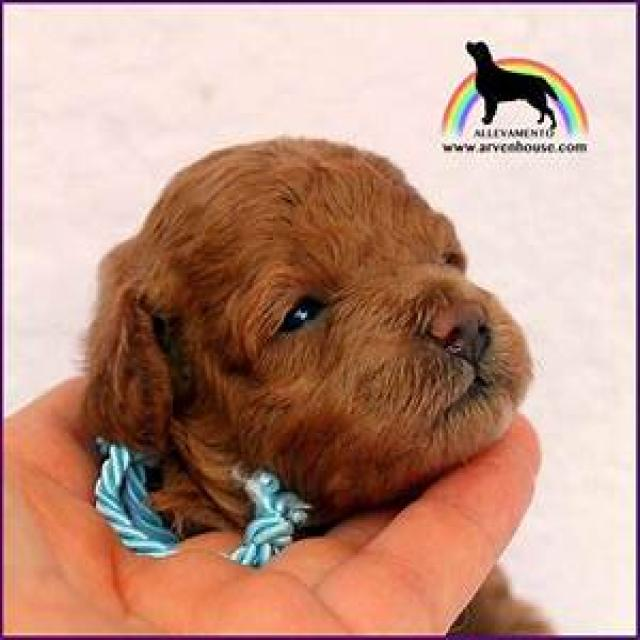dog: (70, 136, 535, 567)
